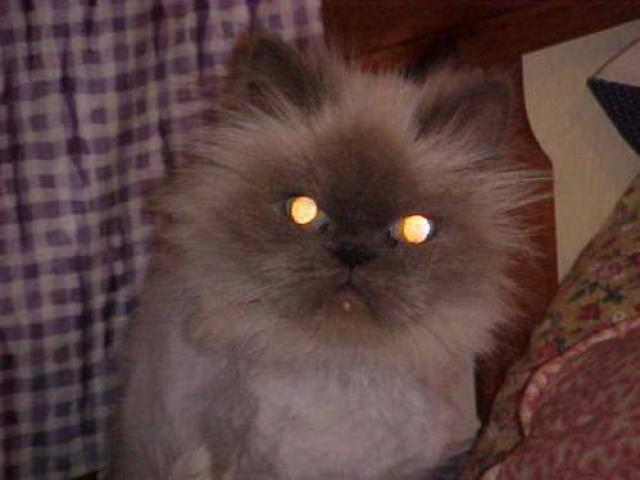cat: (115, 21, 554, 478)
